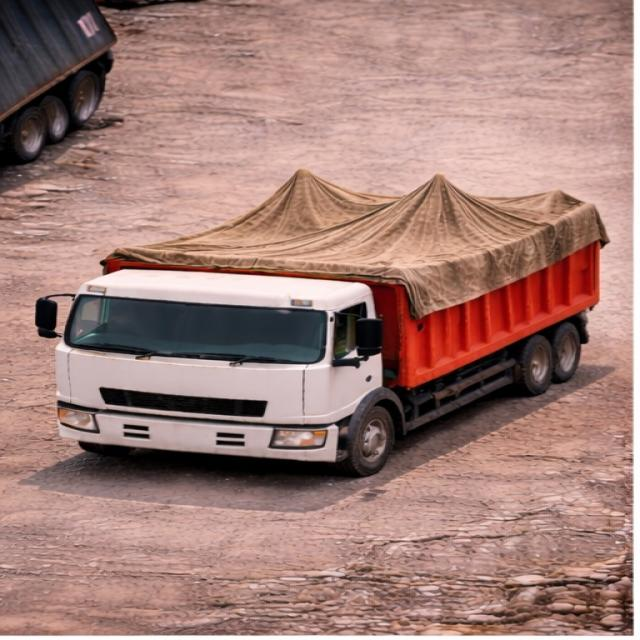Box: (122, 172, 602, 274)
Truck: (30, 156, 620, 473)
